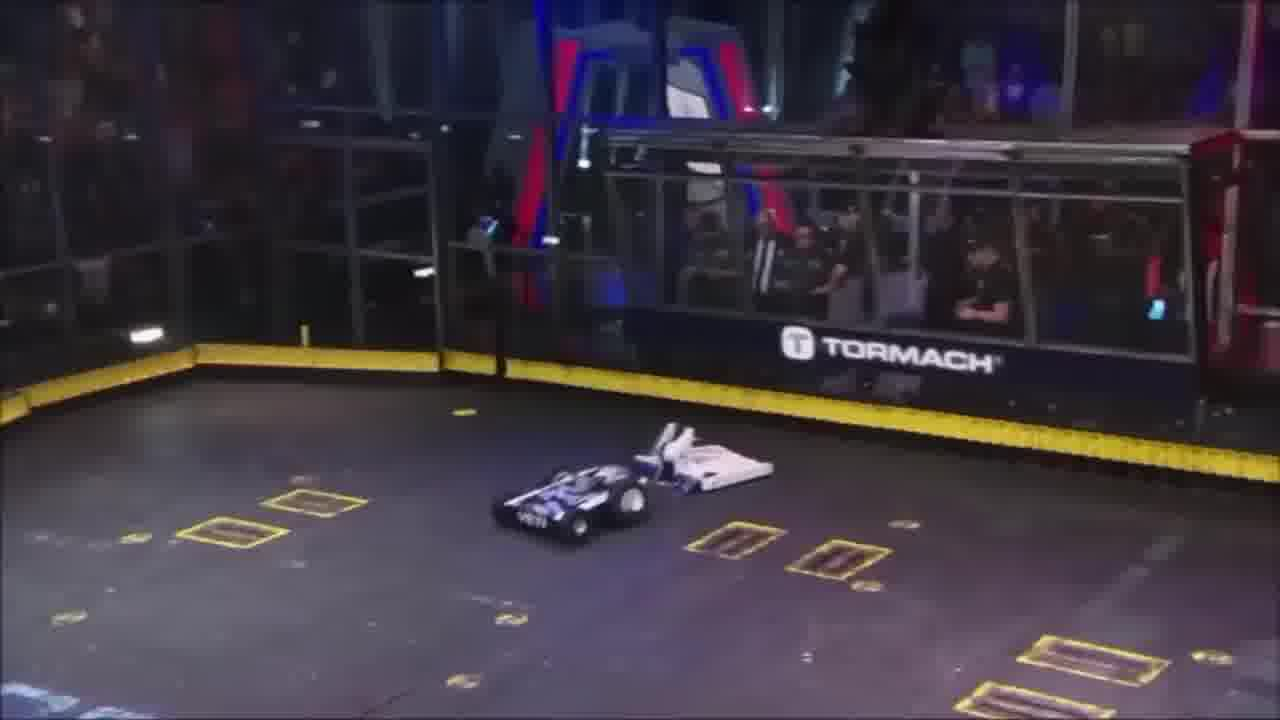combatbot: (488, 464, 655, 545), (635, 420, 776, 497)
